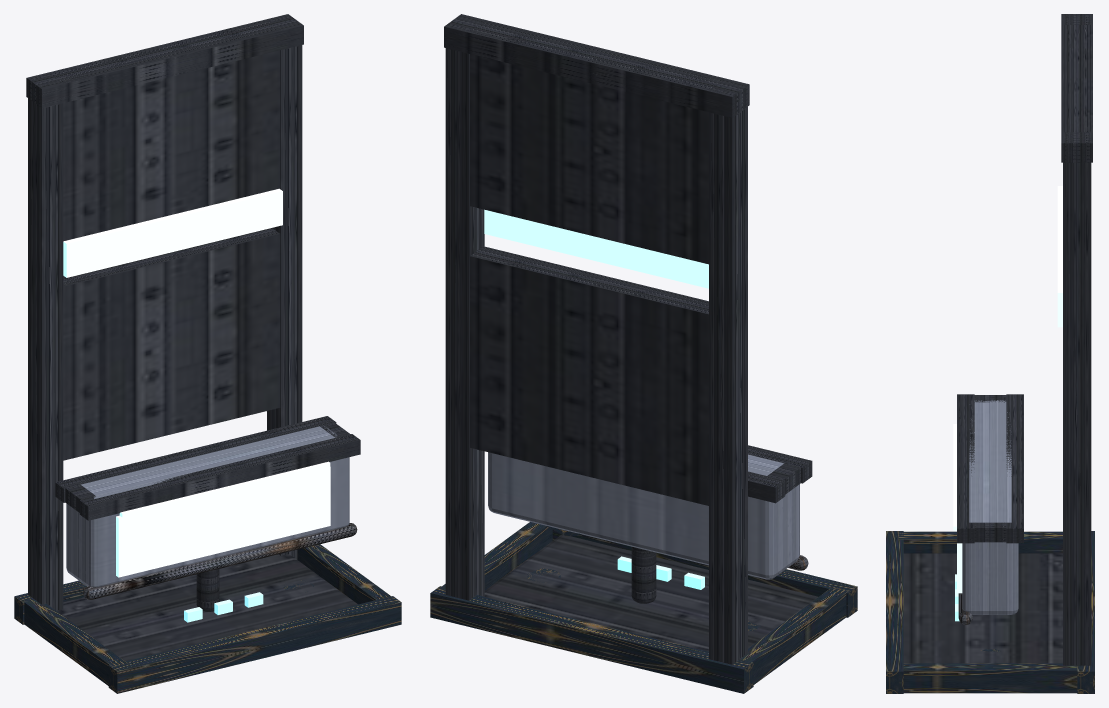
File: med_monitor.glb
3 views of the same model, side by side, from view 1: azimuth 30°, elevation 25°; view 2: azimuth 150°, elevation 25°; view 3: azimuth 270°, elevation 25° (orthographic). The views are drawn at different scales.
Visible parts, largest first — view 1: sight_shell, base, screen, body, shelltoe0, sightglow, shellrim0, bezel, shelltoes0, shellrim2, shelltoes2, shellglow (+2 smaller); view 2: sight_shell, body, base, shelltoe2, sightglow, shelltoes0, shelltoes2, shelltoe0, pole, shellrim2, shellrim0; view 3: sight_shell, base, body, shelltoes2, shelltoe0, shellrim2, shellrim0, shelltoes0, shelltoe2, sightglow, shellrims2, shellglow.
Boxes of the visible parts, left/top/right/bottom form: sight_shell: left=26, top=14, right=303, bottom=610; base: left=57, top=554, right=357, bottom=661; screen: left=116, top=466, right=330, bottom=577; body: left=66, top=426, right=349, bottom=587; shelltoe0: left=108, top=596, right=401, bottom=693; sightglow: left=63, top=188, right=282, bottom=277; shellrim0: left=79, top=434, right=360, bottom=520; bezel: left=83, top=523, right=357, bottom=599; shelltoes0: left=24, top=598, right=127, bottom=685; shellrim2: left=55, top=416, right=336, bottom=502; shelltoes2: left=297, top=544, right=393, bottom=604; shellglow: left=119, top=461, right=330, bottom=517; sight_shell: left=444, top=14, right=749, bottom=664; body: left=488, top=452, right=799, bottom=579; base: left=484, top=535, right=817, bottom=651; shelltoe2: left=430, top=586, right=753, bottom=693; sightglow: left=484, top=209, right=708, bottom=288; shelltoes0: left=740, top=588, right=848, bottom=684; shelltoes2: left=439, top=522, right=552, bottom=590; shelltoe0: left=552, top=530, right=857, bottom=617; pole: left=631, top=547, right=656, bottom=603; shellrim2: left=748, top=471, right=785, bottom=503; shellrim0: left=748, top=445, right=812, bottom=483; sight_shell: left=1061, top=14, right=1092, bottom=665; base: left=903, top=553, right=1062, bottom=663; body: left=962, top=400, right=1018, bottom=614; shelltoes2: left=903, top=663, right=1077, bottom=693; shelltoe0: left=886, top=531, right=903, bottom=693; shellrim2: left=1006, top=394, right=1023, bottom=543; shellrim0: left=957, top=394, right=974, bottom=543; shelltoes0: left=898, top=531, right=1062, bottom=553; shelltoe2: left=1077, top=531, right=1094, bottom=693; sightglow: left=1057, top=186, right=1062, bottom=327; shellrims2: left=974, top=522, right=1006, bottom=542; shellglow: left=953, top=424, right=956, bottom=530.
Bounding box in the file's own units: 0.94 × 1.7 × 0.59.
Materials: 7 (5 with a texture image).
